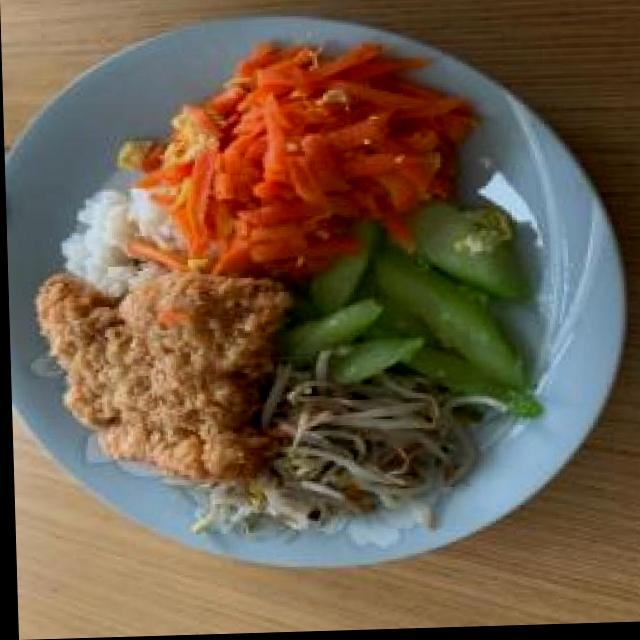carrot_eggs: (147, 55, 441, 275)
fried_chicken: (34, 271, 292, 480)
mung_bean_sprouts: (189, 372, 476, 539)
rice: (59, 188, 192, 299)
